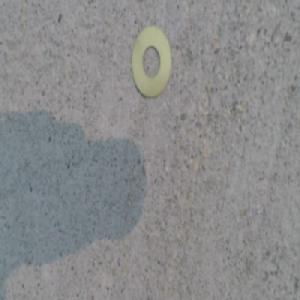Washer: (129, 23, 174, 101)
